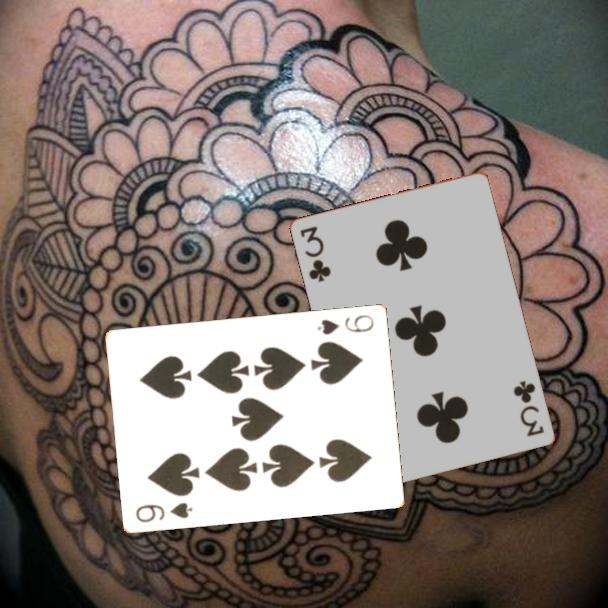c03: (510, 377, 547, 440), (297, 223, 334, 285)
s09: (132, 498, 196, 525), (315, 311, 377, 337)
